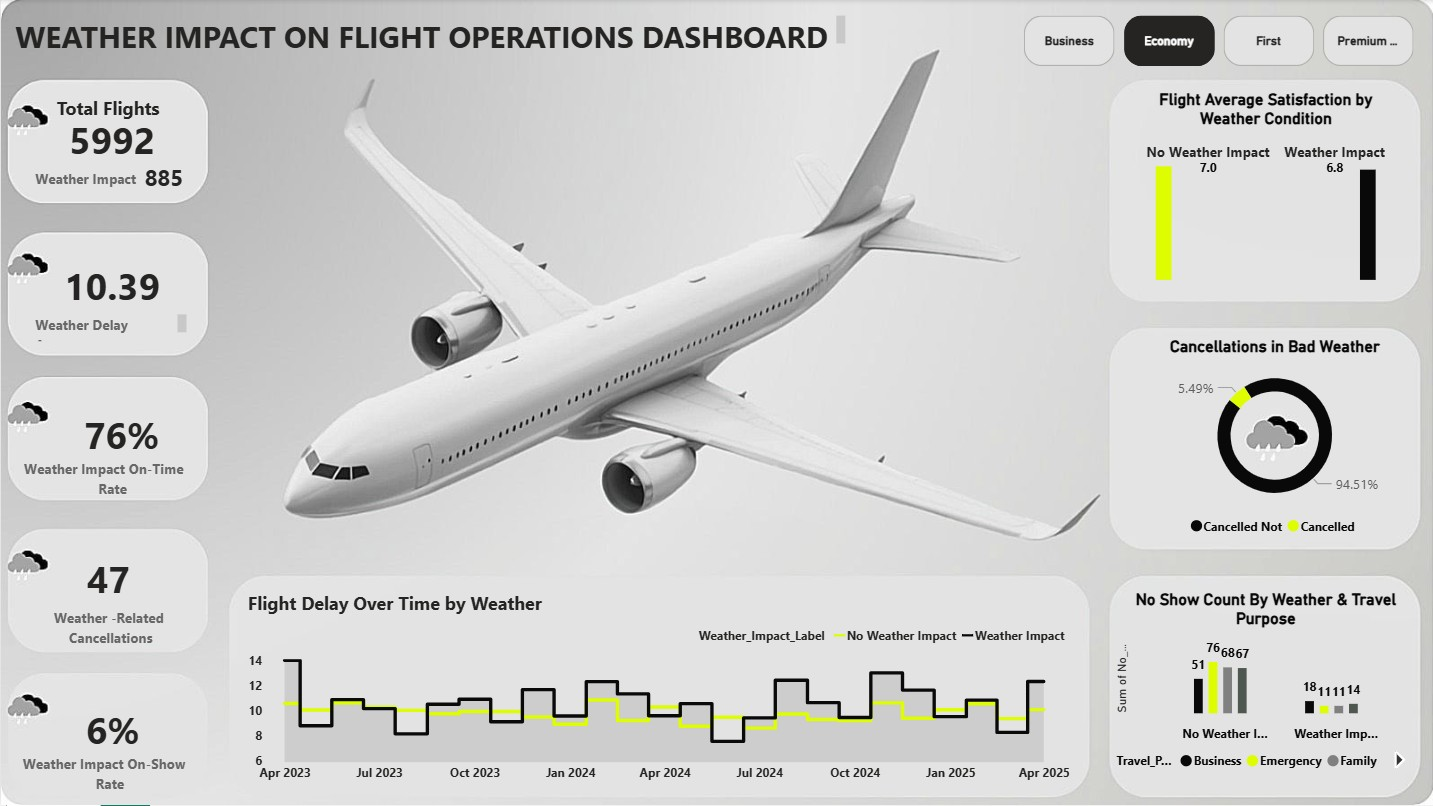

The page's visual inventory and layout, read from the dashboard file:
{"tool":"powerbi","page":{"name":"Page 1","canvas":[1280,720],"ordinal":0},"visuals":[{"type":"textbox","box":[8.1,10.5,751.2,39.5],"z":0},{"type":"card","fields":{"Values":["Flights_Dataset.Total_Flights"]},"box":[21.2,50.6,156.6,150.8],"z":1000},{"type":"card","fields":{"Values":["Flights_Dataset.Total_Flights(Weather_Impact)"]},"box":[68.3,137.8,155.5,47.1],"z":2000},{"type":"card","fields":{"Values":["Flights_Dataset.Avg_Delay(Weather_Impact)"]},"box":[21.2,181.4,156.6,150.8],"z":3000},{"type":"card","fields":{"Values":["Flights_Dataset.On_time%(Weather_Impact)"]},"box":[15.3,319.2,184.9,140.2],"z":4000},{"type":"card","fields":{"Values":["Flights_Dataset.Total_Cancellation(Weather_Impact)"]},"box":[5.9,459.3,181.4,119],"z":5000},{"type":"card","fields":{"Values":["Flights_Dataset.No-Show_Rate%(Weather_Impact)"]},"box":[22.4,587.7,155.5,131.9],"z":6000},{"type":"lineChart","title":"Flight Delay Over Time by Weather","fields":{"Y":["Flights_Dataset.Avg_Delay_Flights"],"Category":["Flights_Dataset.Departure_Time.Variation.Date Hierarchy.Year","Flights_Dataset.Departure_Time.Variation.Date Hierarchy.Month"],"Series":["Flights_Dataset.Weather_Impact_Label"]},"box":[215.1,527.9,744.2,180.2],"z":6001},{"type":"clusteredColumnChart","title":"Flight Average Satisfaction by Weather Condition","fields":{"Category":["Flights_Dataset.Weather_Impact"],"Y":["Flights_Dataset.Average_Flight_Satisfaction_Score"],"Series":["Flights_Dataset.Weather_Impact_Label"]},"box":[1018.6,81.4,223.3,175.6],"z":6002},{"type":"donutChart","title":"Cancellations in Bad Weather","fields":{"Category":["Flights_Dataset.Cancellation_Label"],"Y":["CountNonNull(Flights_Dataset.Flight_ID)"]},"box":[1007,301.2,261.6,187.2],"z":6003},{"type":"clusteredColumnChart","title":"No Show Count By Weather & Travel Purpose","fields":{"Category":["Flights_Dataset.Weather_Impact_Label"],"Y":["Sum(Flights_Dataset.No_Show)"],"Series":["Flights_Dataset.Travel_Purpose"]},"box":[991.9,527.9,276.7,169.8],"z":6004},{"type":"advancedSlicerVisual","fields":{"Values":["Flights_Dataset.Seat_Class"]},"box":[909.3,10.5,359.3,55.8],"z":6005},{"type":"textbox","box":[8.2,81.3,175.5,33],"z":6006},{"type":"textbox","box":[25.9,146,110.7,35.3],"z":6007},{"type":"textbox","box":[25.9,276.8,144.9,34.2],"z":6008},{"type":"textbox","box":[15.3,405.2,168.4,66],"z":6009},{"type":"textbox","box":[25.9,538.2,144.9,49.5],"z":6010},{"type":"textbox","box":[8.2,669,179,50.6],"z":6011}]}

Visuals, with their boxes in screenshot pixels (x1, y1, x2, y2), scaled from the page's 1280x720 canvas onto the 1433x806 screenshot:
textbox: BBox(9, 12, 850, 56)
card - Flights_Dataset.Total_Flights: BBox(24, 57, 199, 225)
card - Flights_Dataset.Total_Flights(Weather_Impact): BBox(76, 154, 251, 207)
card - Flights_Dataset.Avg_Delay(Weather_Impact): BBox(24, 203, 199, 372)
card - Flights_Dataset.On_time%(Weather_Impact): BBox(17, 357, 224, 514)
card - Flights_Dataset.Total_Cancellation(Weather_Impact): BBox(7, 514, 210, 647)
card - Flights_Dataset.No-Show_Rate%(Weather_Impact): BBox(25, 658, 199, 805)
"Flight Delay Over Time by Weather" lineChart: BBox(241, 591, 1074, 793)
"Flight Average Satisfaction by Weather Condition" clusteredColumnChart: BBox(1140, 91, 1390, 288)
"Cancellations in Bad Weather" donutChart: BBox(1127, 337, 1420, 547)
"No Show Count By Weather & Travel Purpose" clusteredColumnChart: BBox(1110, 591, 1420, 781)
advancedSlicerVisual - Flights_Dataset.Seat_Class: BBox(1018, 12, 1420, 74)
textbox: BBox(9, 91, 206, 128)
textbox: BBox(29, 163, 153, 203)
textbox: BBox(29, 310, 191, 348)
textbox: BBox(17, 454, 206, 527)
textbox: BBox(29, 602, 191, 658)
textbox: BBox(9, 749, 210, 805)
